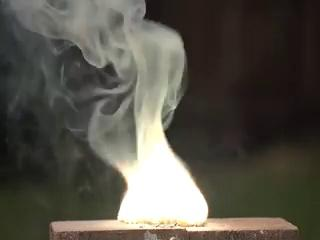Fire: (115, 108, 208, 222)
